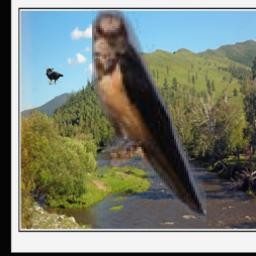Crow: (46, 69, 64, 86)
Swallow: (93, 11, 207, 224)
